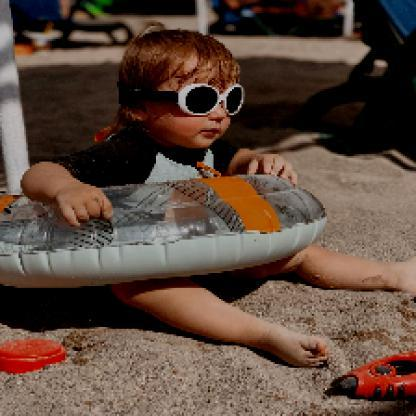child: (22, 29, 416, 371)
